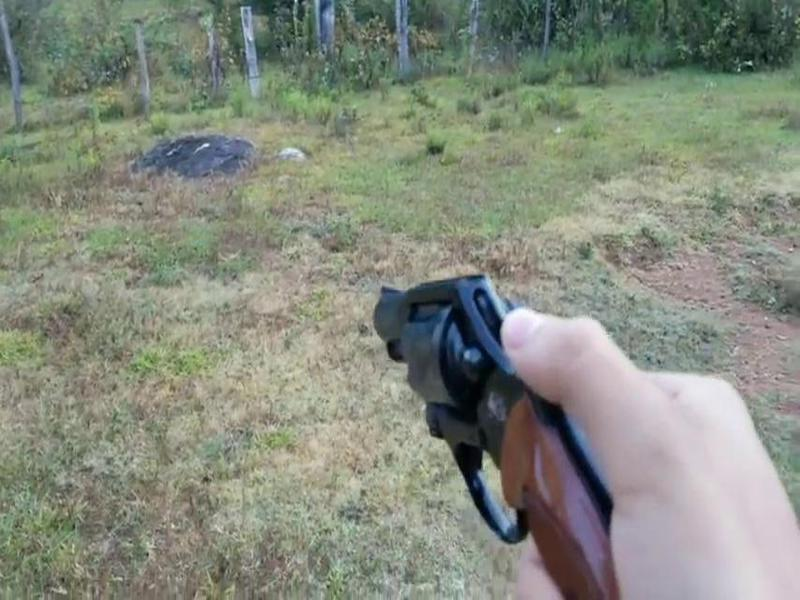Revolver: (331, 263, 626, 552)
